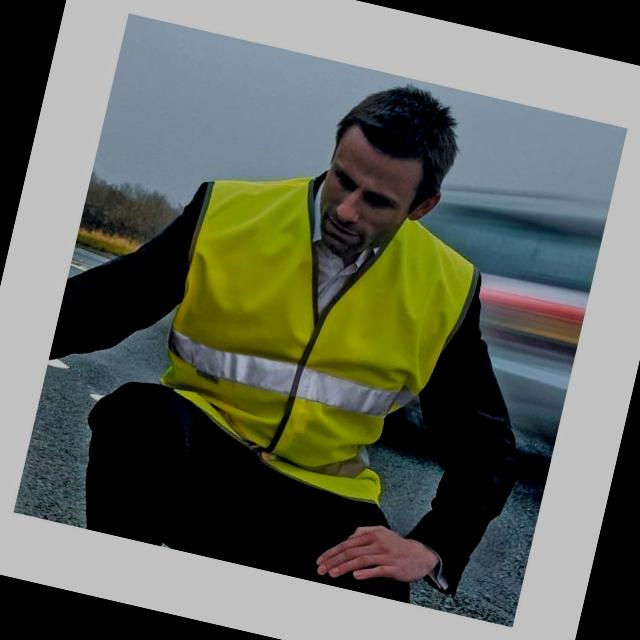vest: (136, 158, 480, 500)
